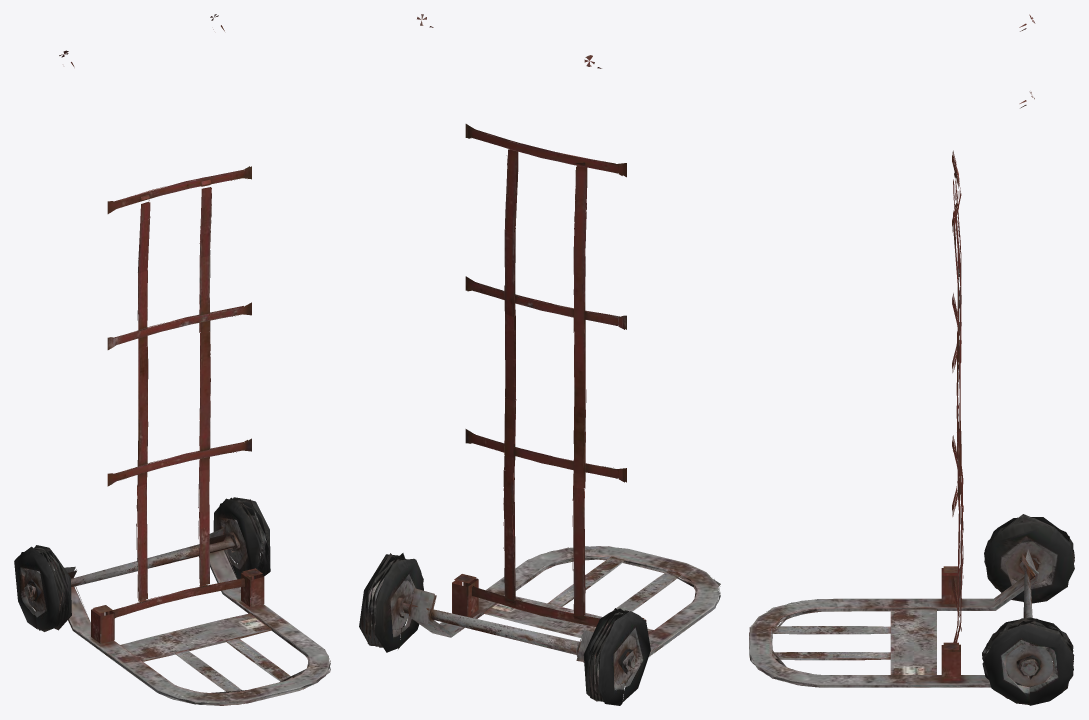
Rendered from hand_truck_1k.gltf.
3 renders of one model, left to right at view 1: azimuth 30°, elevation 25°; view 2: azimuth 150°, elevation 25°; view 3: azimuth 270°, elevation 25°, orthographic. The views are drawn at different scales.
Parts seen in each view (by area): view 1: hand_truck_LOD0; view 2: hand_truck_LOD0; view 3: hand_truck_LOD0.
Part boxes in pixels (<box>): hand_truck_LOD0: <box>14,14,330,705</box>; hand_truck_LOD0: <box>359,14,720,705</box>; hand_truck_LOD0: <box>749,14,1074,705</box>.
Size of what is drawn, in the model's own units: 0.5933 by 1.41 by 0.6932.
1 material, 1 textured.
